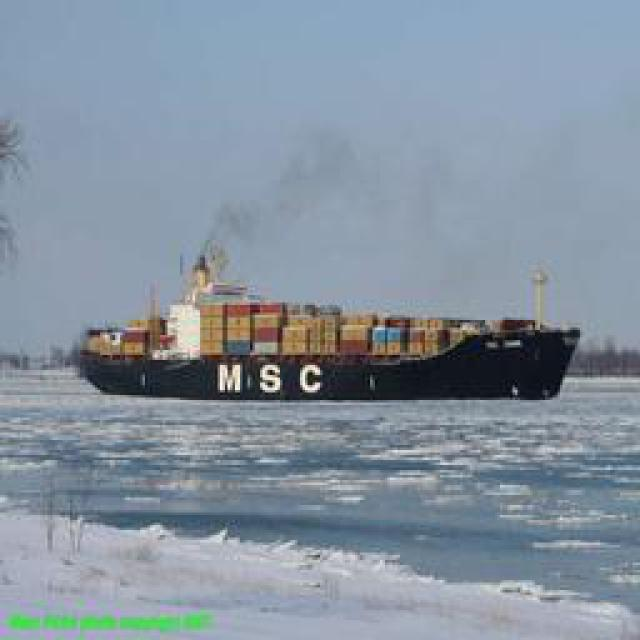Ship: (85, 236, 570, 401)
